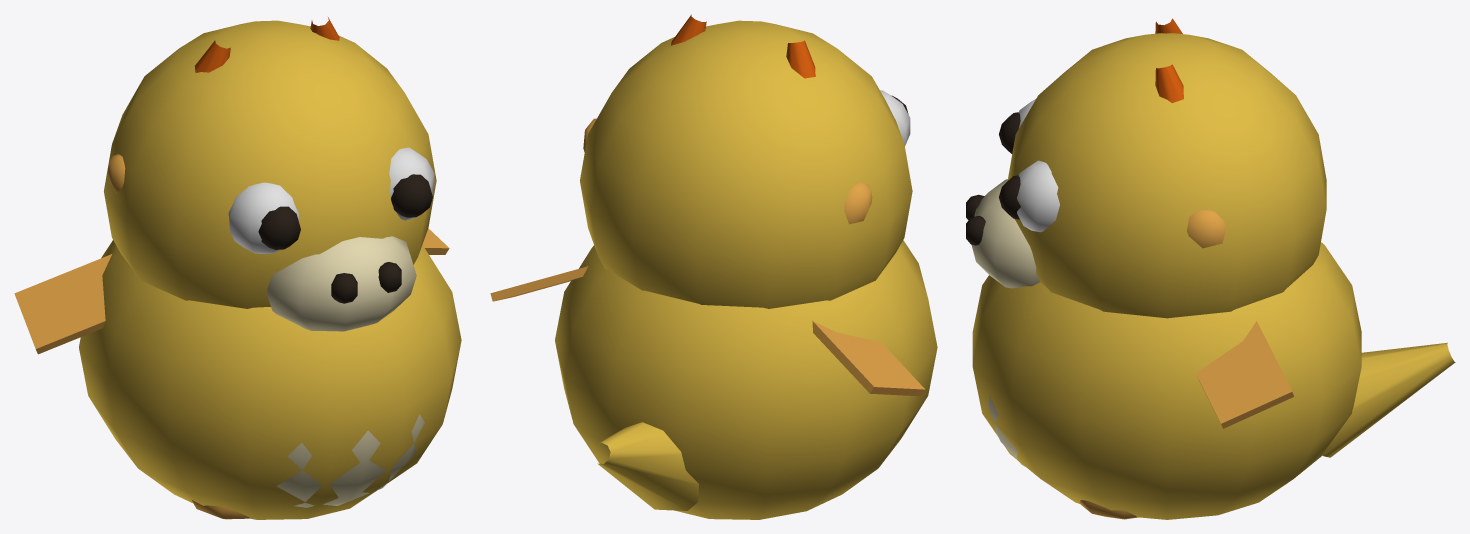
File: nailong.glb
The picture shows the model from 3 angles, left to right: view 1: azimuth 30°, elevation 25°; view 2: azimuth 150°, elevation 25°; view 3: azimuth 270°, elevation 25°; orthographic projection. The views are drawn at different scales.
Visible parts, largest first — view 1: 奶龙; view 2: 奶龙; view 3: 奶龙.
Part boxes in pixels (box(x1,y1,x2,y2)): 奶龙: box(14, 17, 461, 519); 奶龙: box(490, 14, 937, 519); 奶龙: box(966, 18, 1455, 519).
Bounding box in the file's own units: 0.6587 × 0.7193 × 0.6896.
